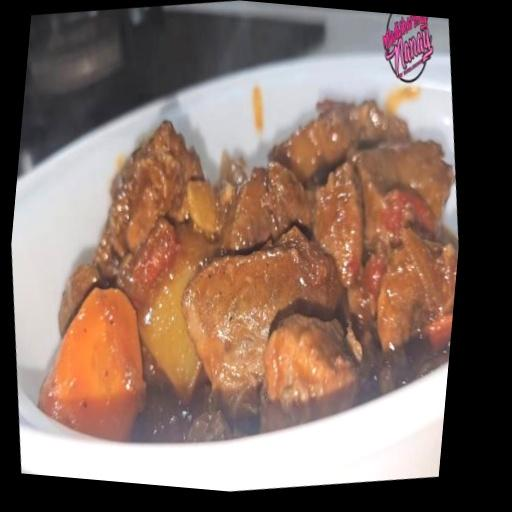pork caldereta: (35, 109, 456, 440)
